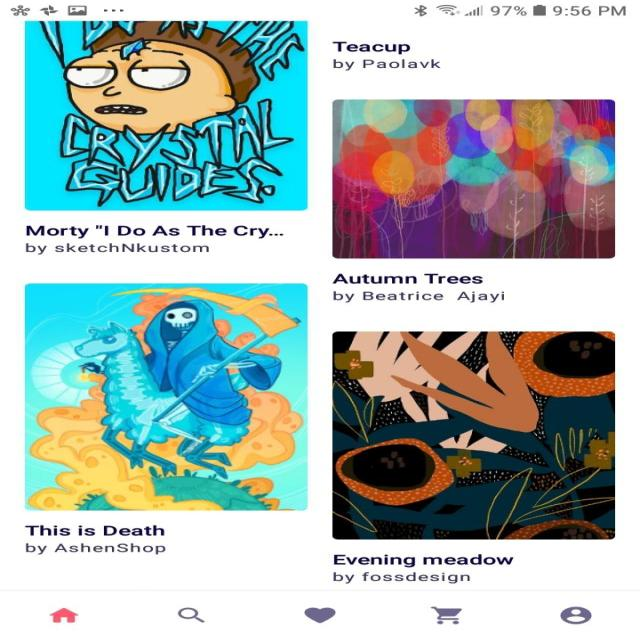Icon: (430, 605, 462, 624), (559, 606, 592, 624), (303, 607, 336, 623), (50, 607, 80, 622), (177, 607, 204, 622)
Image: (25, 283, 308, 510), (332, 331, 616, 540), (24, 21, 308, 210), (332, 100, 614, 258)
Text: (25, 224, 284, 238), (332, 554, 514, 568), (25, 242, 209, 255), (332, 290, 504, 303), (24, 542, 166, 555), (332, 571, 470, 584), (332, 273, 482, 284), (24, 525, 164, 536), (331, 58, 441, 71), (332, 40, 411, 54)
